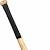baseball bat: (1, 1, 29, 50)
